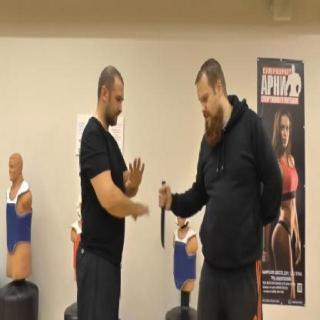knife: (158, 180, 170, 252)
